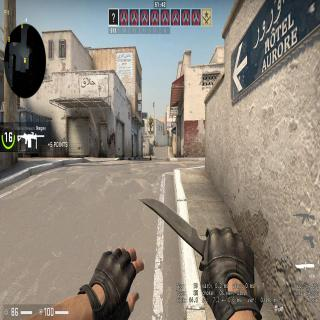CT-Body: (153, 139, 156, 147)
CT-Head: (154, 140, 155, 141)
